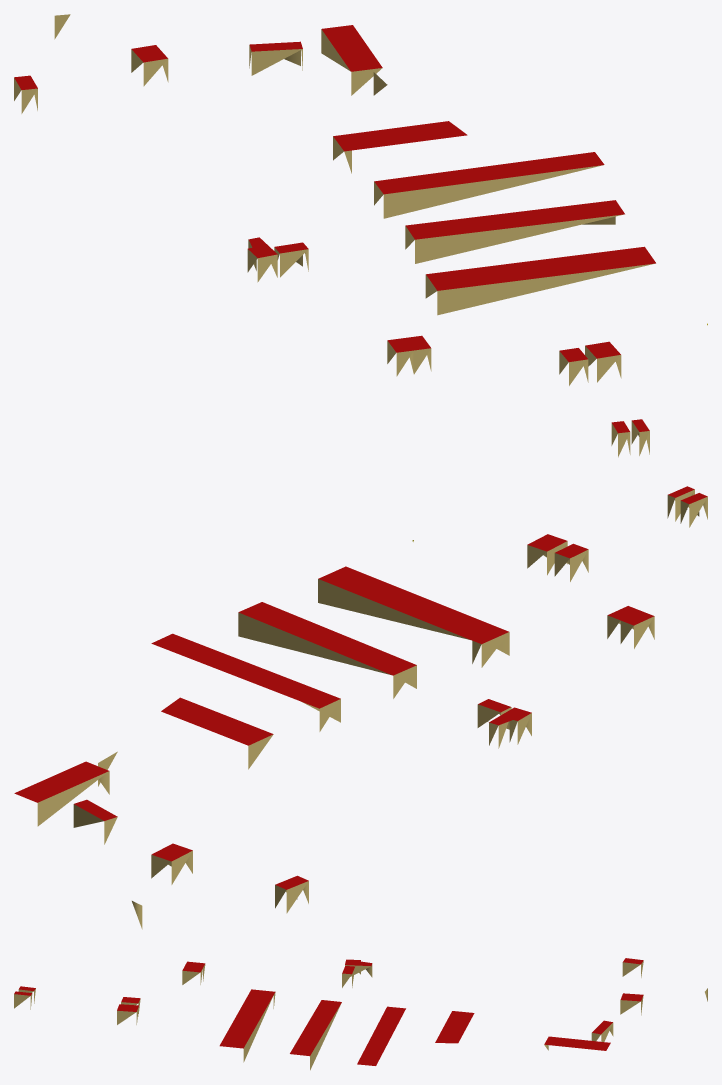
3 views of the same model, one above another, from view 1: azimuth 30°, elevation 25°; view 2: azimuth 150°, elevation 25°; view 3: azimuth 270°, elevation 25° (orthographic). The views are drawn at different scales.
Size of the model in its own units: 118 by 7.5 by 320.
